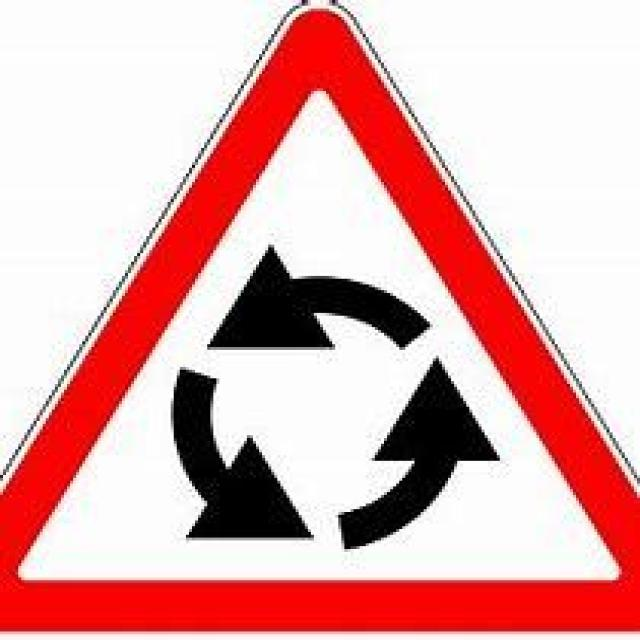roundabout: (14, 28, 627, 605)
